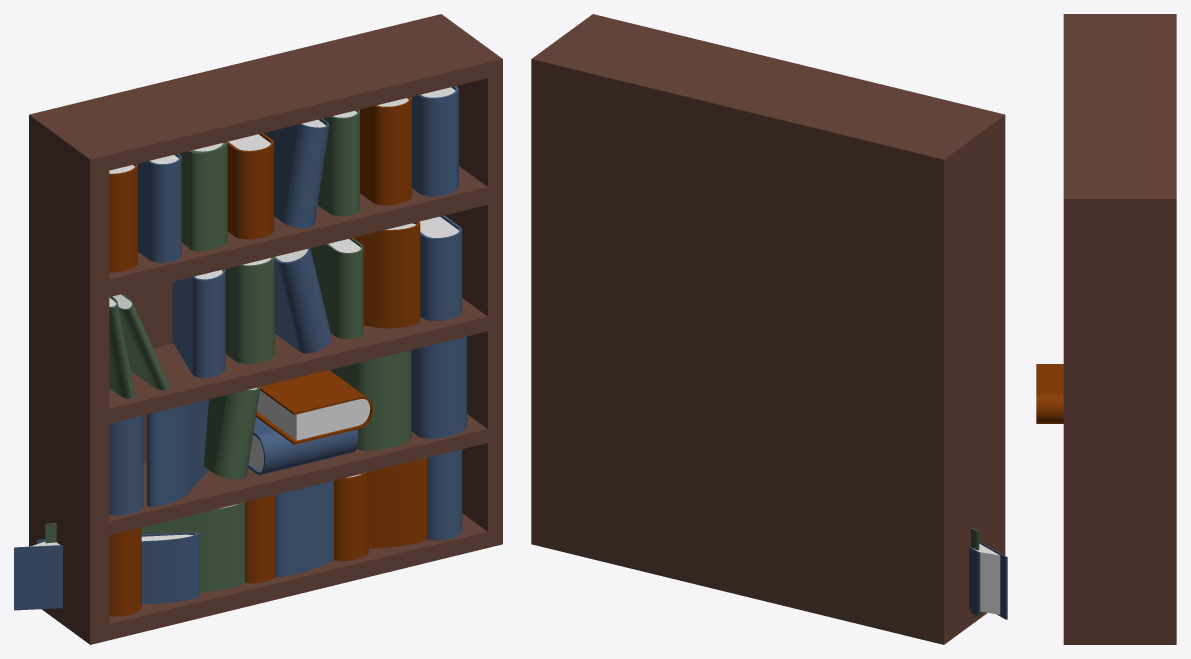
File: bookcaseupdate.fbx
3 views of the same model, side by side, from view 1: azimuth 30°, elevation 25°; view 2: azimuth 150°, elevation 25°; view 3: azimuth 270°, elevation 25° (orthographic). The views are drawn at different scales.
Visible parts, largest first — view 1: BookCase, Book35, Book26, Book14, Book27, Book21, Book11, Book19, Book9, Book23, Book17, Book30 (+21 smaller); view 2: BookCase, Book35; view 3: BookCase, Book26.
Part boxes in pixels (bbox=[...]): BookCase: bbox=[29, 14, 502, 644]; Book35: bbox=[14, 532, 199, 610]; Book26: bbox=[256, 370, 373, 444]; Book14: bbox=[353, 221, 420, 328]; Book27: bbox=[146, 399, 208, 506]; Book21: bbox=[411, 336, 466, 438]; Book11: bbox=[359, 97, 411, 205]; Book19: bbox=[172, 269, 225, 377]; Book9: bbox=[263, 118, 329, 228]; Book23: bbox=[330, 350, 411, 450]; Book17: bbox=[225, 257, 274, 363]; Book30: bbox=[368, 458, 427, 548]; BookCase: bbox=[531, 14, 1005, 644]; Book35: bbox=[969, 541, 1007, 619]; BookCase: bbox=[1063, 14, 1176, 644]; Book26: bbox=[1036, 364, 1063, 423].
Bounding box in the file's own units: 1.95 × 2 × 0.5694.
